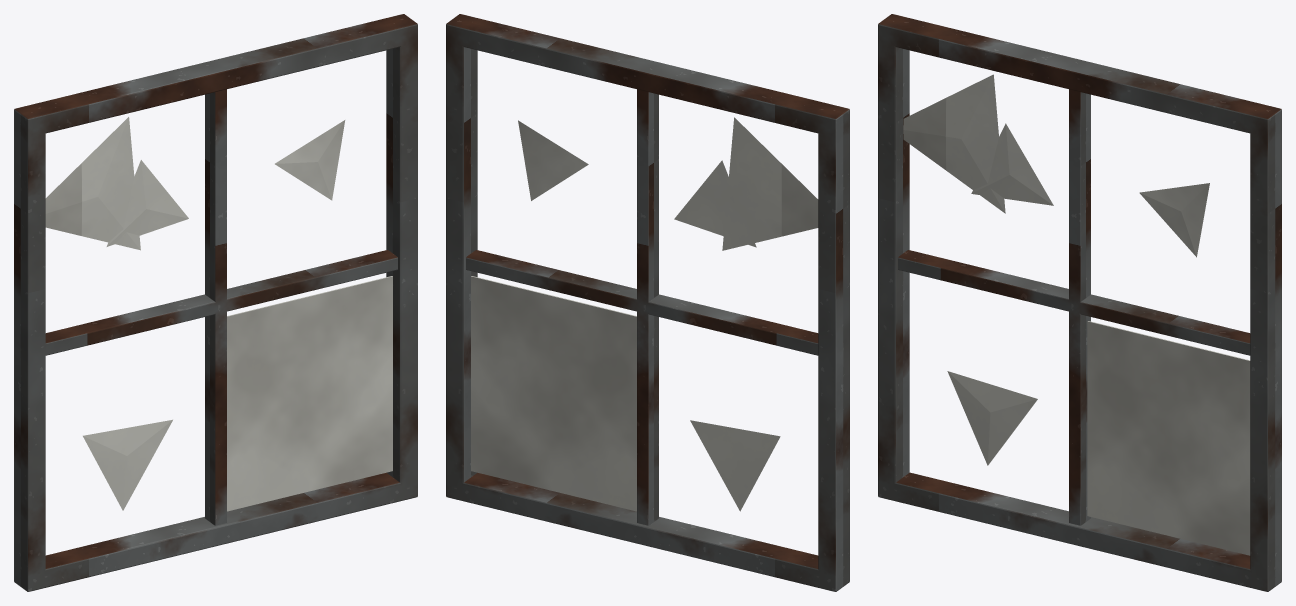
File: BR04_broken_window_glass_v2.glb
The picture shows the model from 3 angles, left to right: view 1: azimuth 30°, elevation 25°; view 2: azimuth 150°, elevation 25°; view 3: azimuth 330°, elevation 25°; orthographic projection.
Parts seen in each view (by area): view 1: BR04_broken_window_glass_v2; view 2: BR04_broken_window_glass_v2; view 3: BR04_broken_window_glass_v2.
Part boxes in pixels (<box>): BR04_broken_window_glass_v2: <box>14,14,417,591</box>; BR04_broken_window_glass_v2: <box>446,14,849,591</box>; BR04_broken_window_glass_v2: <box>878,14,1281,591</box>.
Size of the model in its own units: 1.29 by 1.5 by 0.0822.
Materials: 2 (2 with a texture image).
